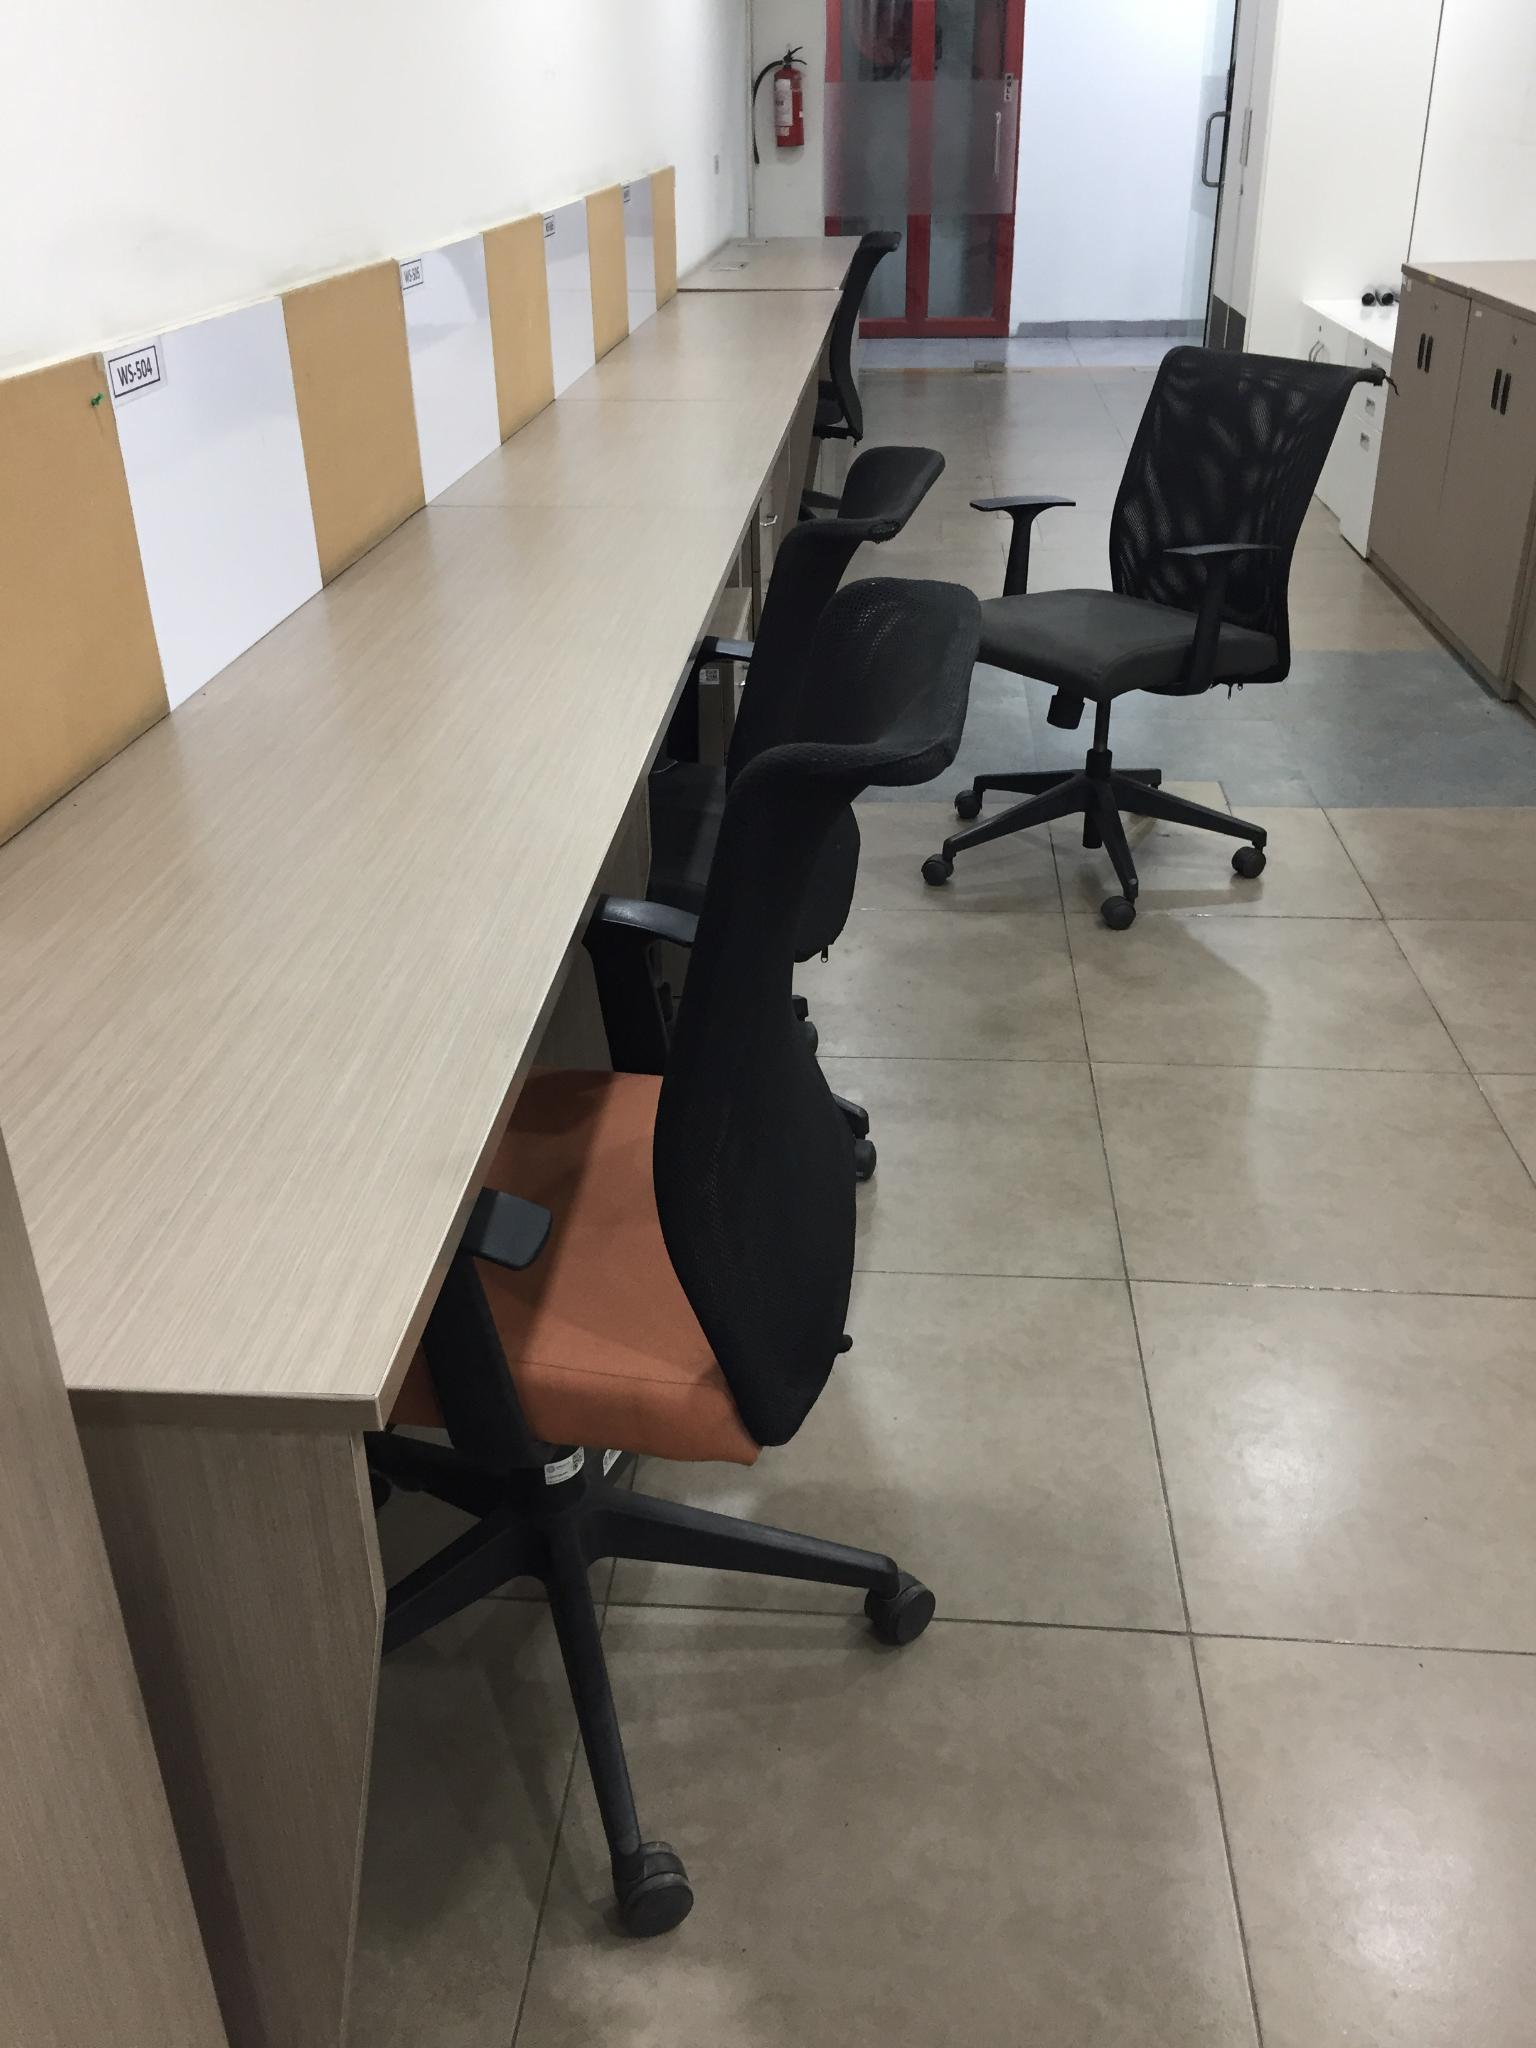chair: (368, 571, 984, 1937), (920, 342, 1391, 929), (765, 423, 999, 605), (795, 208, 929, 440)
